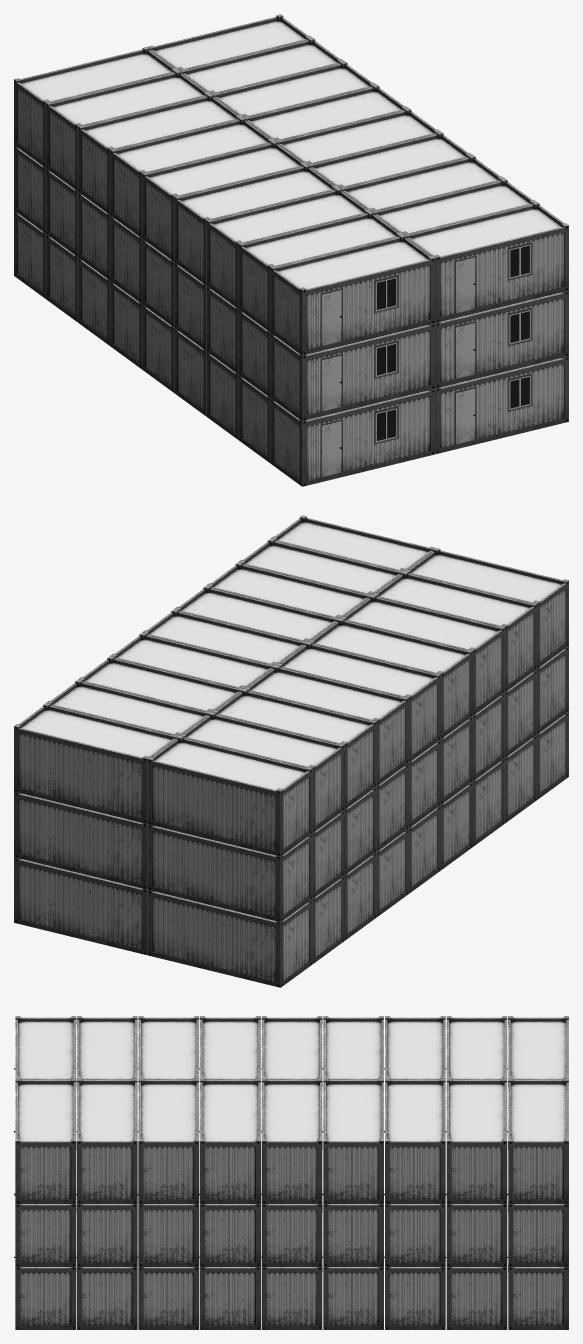
File: CSL-Lengnau_Container-R_090.gltf
3 renders of one model, top to bottom at view 1: azimuth 30°, elevation 25°; view 2: azimuth 150°, elevation 25°; view 3: azimuth 270°, elevation 25°, orthographic. The views are drawn at different scales.
Parts seen in each view (by area): view 1: pasted__Container_R1Shape; view 2: pasted__Container_R1Shape; view 3: pasted__Container_R1Shape.
Part boxes in pixels (x1,y1,x2,y2): pasted__Container_R1Shape: [14, 14, 568, 486]; pasted__Container_R1Shape: [14, 515, 568, 987]; pasted__Container_R1Shape: [14, 1016, 568, 1329].
Size of the model in its own units: 5.18 by 3.65 by 9.73.
Materials: 1 (1 with a texture image).
